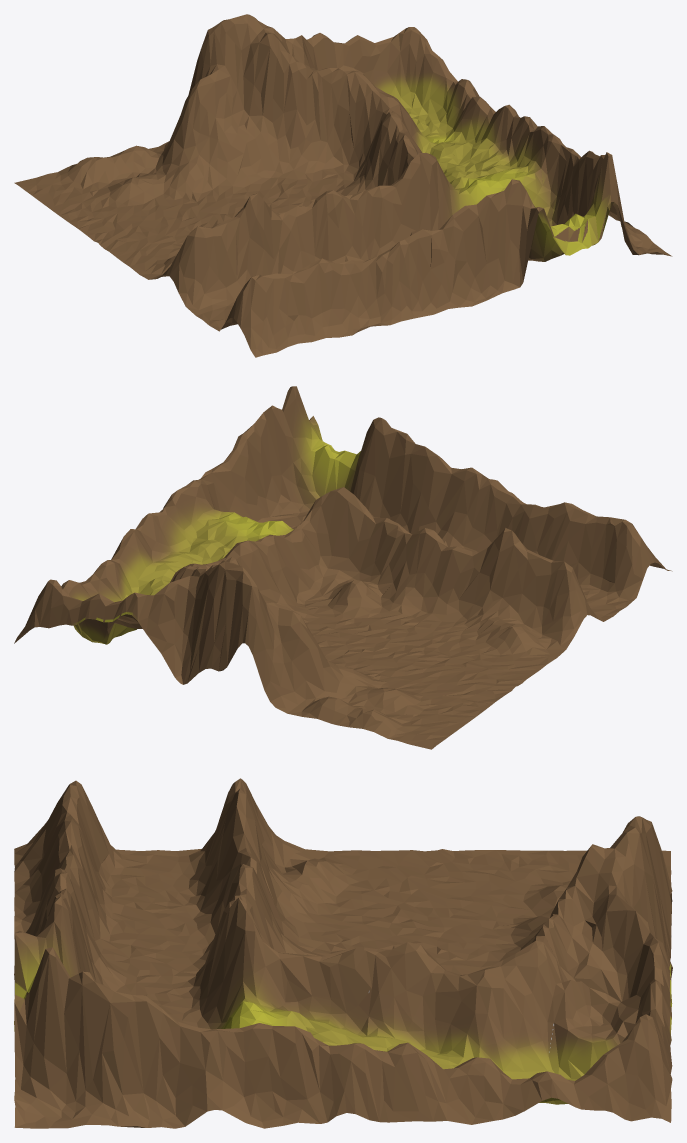
The model's file is LVL1CH2.fbx.
3 views of the same model, one above another, from view 1: azimuth 30°, elevation 25°; view 2: azimuth 150°, elevation 25°; view 3: azimuth 270°, elevation 25° (orthographic). The views are drawn at different scales.
Parts seen in each view (by area): view 1: LVL1CH1.001; view 2: LVL1CH1.001; view 3: LVL1CH1.001.
Boxes of the visible parts, left/top/right/bottom form: LVL1CH1.001: left=14, top=14, right=672, bottom=357; LVL1CH1.001: left=14, top=386, right=672, bottom=749; LVL1CH1.001: left=14, top=778, right=672, bottom=1128.
Size of the model in its own units: 20043 by 5738 by 20071.
1 material, 1 textured.
